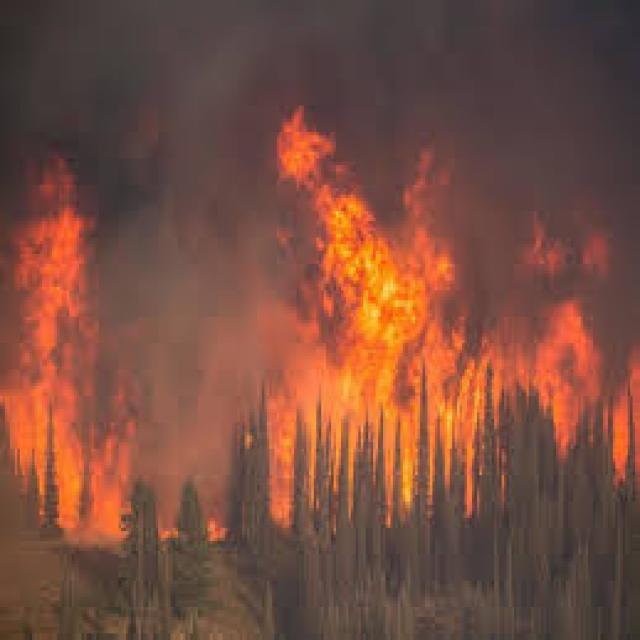Fire: (267, 109, 640, 531), (0, 158, 138, 529)
Smoke: (0, 3, 640, 289)
